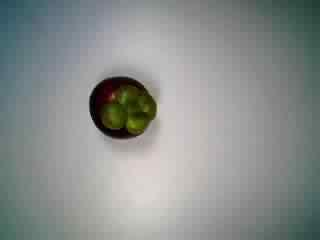mangosteen: (85, 66, 158, 146)
